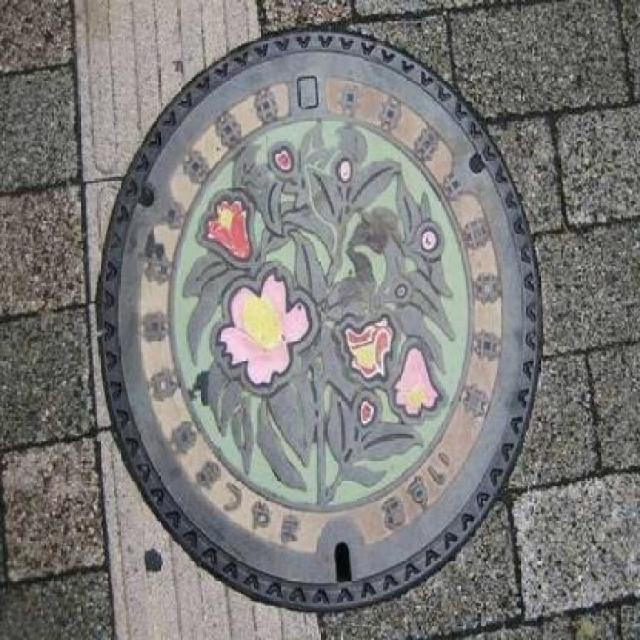Manhole: (82, 16, 553, 621)
